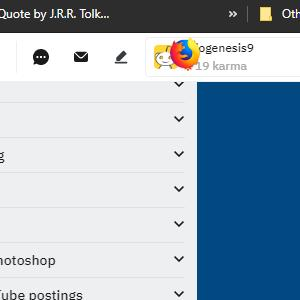firefox: (170, 37, 200, 68)
